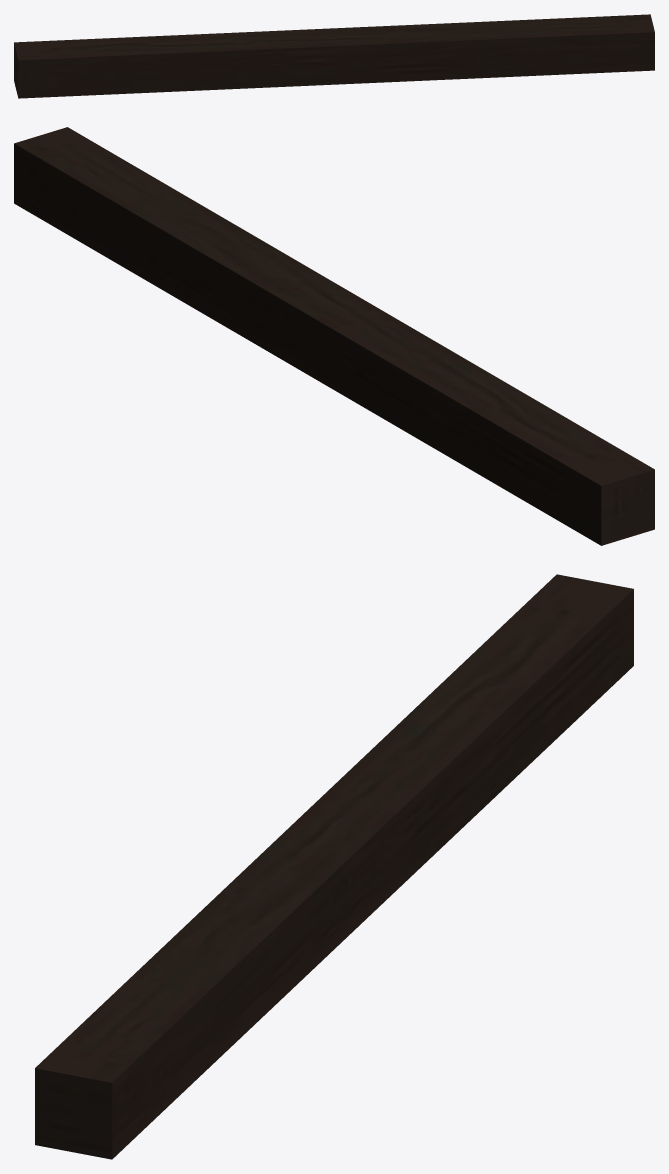
Rendered from base_frame__diagonal_brace.glb.
3 renders of one model, top to bottom at view 1: azimuth 30°, elevation 25°; view 2: azimuth 150°, elevation 25°; view 3: azimuth 270°, elevation 25°, orthographic. The views are drawn at different scales.
Parts seen in each view (by area): view 1: world; view 2: world; view 3: world.
Part boxes in pixels (bbox=[...]): world: bbox=[14, 14, 654, 98]; world: bbox=[14, 127, 654, 545]; world: bbox=[35, 574, 633, 1159].
Size of the model in its own units: 0.6392 by 0.045 by 0.3184.
Materials: 1 (1 with a texture image).
